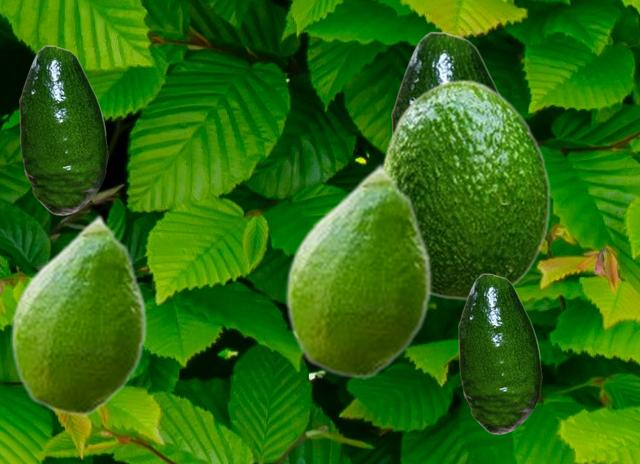avocado: (380, 79, 550, 299), (285, 162, 431, 378), (10, 213, 146, 415), (19, 45, 107, 214), (458, 273, 541, 433), (391, 31, 500, 132)
